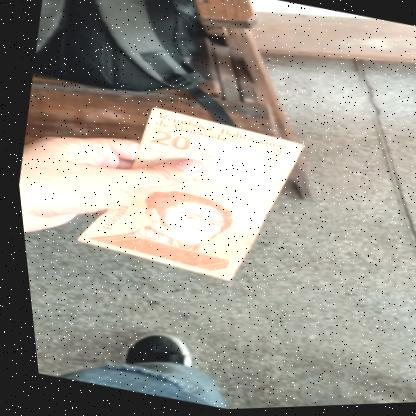twenty-front-vef: (58, 91, 315, 300)
